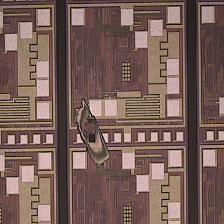BLOCK ETCH: (72, 98, 114, 168)
